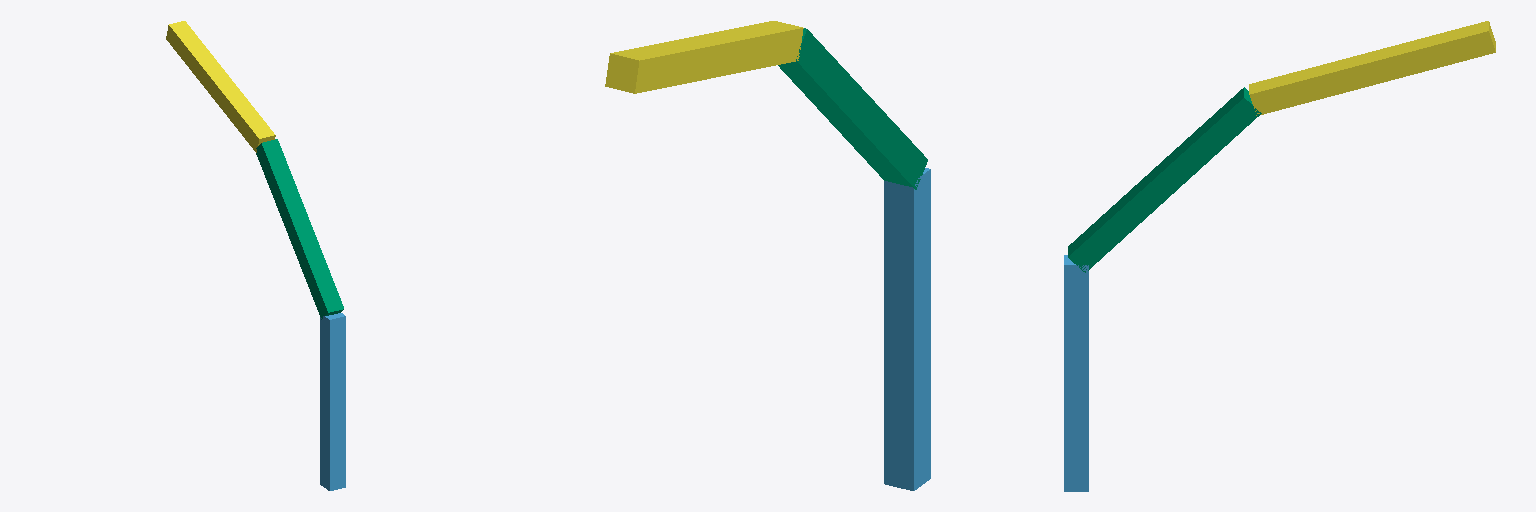
The robot description file, URDF, robot "simple":
<?xml version="1.0"?>
<robot name="simple">
  <link name="base" />
  <link name="link1">
    <visual>
      <origin xyz="0 0 0.5" rpy="0 0 0"/>
      <geometry>
        <box size="0.1 0.1 1"/>
      </geometry>
    </visual>
  </link>
  <link name="link2">
    <visual>
      <origin xyz="0 0 0.5" rpy="0 0 0"/>
      <geometry>
        <box size="0.1 0.1 1"/>
      </geometry>
    </visual>
  </link>
  <link name="link3">
    <visual>
      <origin xyz="0 0 0.5" rpy="0 0 0"/>
      <geometry>
        <box size="0.1 0.1 1"/>
      </geometry>
    </visual>
  </link>

  <joint name="joint1" type="revolute">
    <parent link="base" />
    <child link="link1" />
    <limit effort="30" velocity="1.0" lower="-1.570795" upper="1.570795" />
    <origin xyz="0 0 0" rpy="0 0 0" />
    <axis xyz="0 0 1" />
  </joint>
  <joint name="joint2" type="revolute">
    <parent link="link1" />
    <child link="link2" />
    <limit effort="30" velocity="1.0" lower="-1.570795" upper="1.570795" />
    <origin xyz="0 0 1" rpy="-0.785398 0 0" />
    <axis xyz="1 0 0" />
  </joint>
  <joint name="joint3" type="revolute">
    <parent link="link2" />
    <child link="link3" />
    <limit effort="30" velocity="1.0" lower="-1.570795" upper="1.570795" />
    <origin xyz="0 0 1" rpy="-0.5 0 0" />
    <axis xyz="1 0 0" />
  </joint>
</robot>

--- Render facts (derived) ---
Views: 3 orthographic renders of the robot side by side, from view 1: azimuth 30°, elevation 25°; view 2: azimuth 150°, elevation 25°; view 3: azimuth 270°, elevation 25°.
Robot: simple — 4 links, 3 joints (3 revolute); root link base; default pose: every joint at zero.
Links seen in each view (by area): view 1: link2, link1, link3; view 2: link1, link3, link2; view 3: link3, link2, link1.
Link boxes in pixels (<box>): link2: <box>256,139,343,319</box>; link1: <box>320,313,345,490</box>; link3: <box>166,21,275,152</box>; link1: <box>884,168,930,490</box>; link3: <box>605,21,803,93</box>; link2: <box>778,28,927,189</box>; link3: <box>1249,21,1495,115</box>; link2: <box>1068,87,1261,272</box>; link1: <box>1064,255,1088,491</box>.
Bounding box of the posed robot: 0.1 × 1.73 × 2.04 m (x, y, z).
Geometry: primitives only (box / cylinder / sphere), no mesh files.